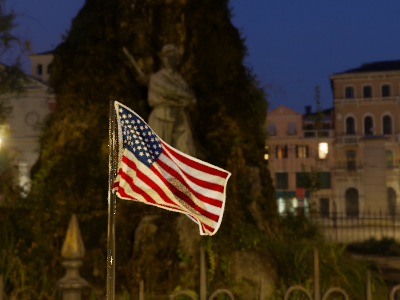America flag: (114, 101, 235, 238)
